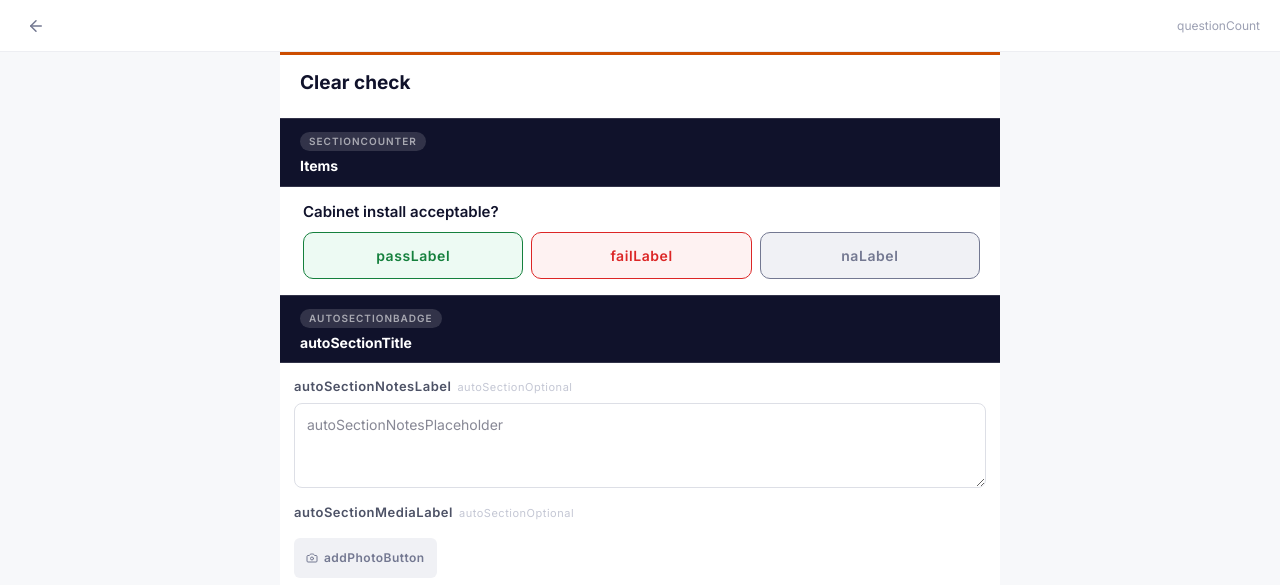
FormFillClient draft registration › adds a second deficiency row when allowAdditionalDeficiencies is true and add-another is clicked
This screenshot has width=1280, height=585.
Click the button "failLabel": {"x": 641, "y": 255} [531, 232, 752, 279]
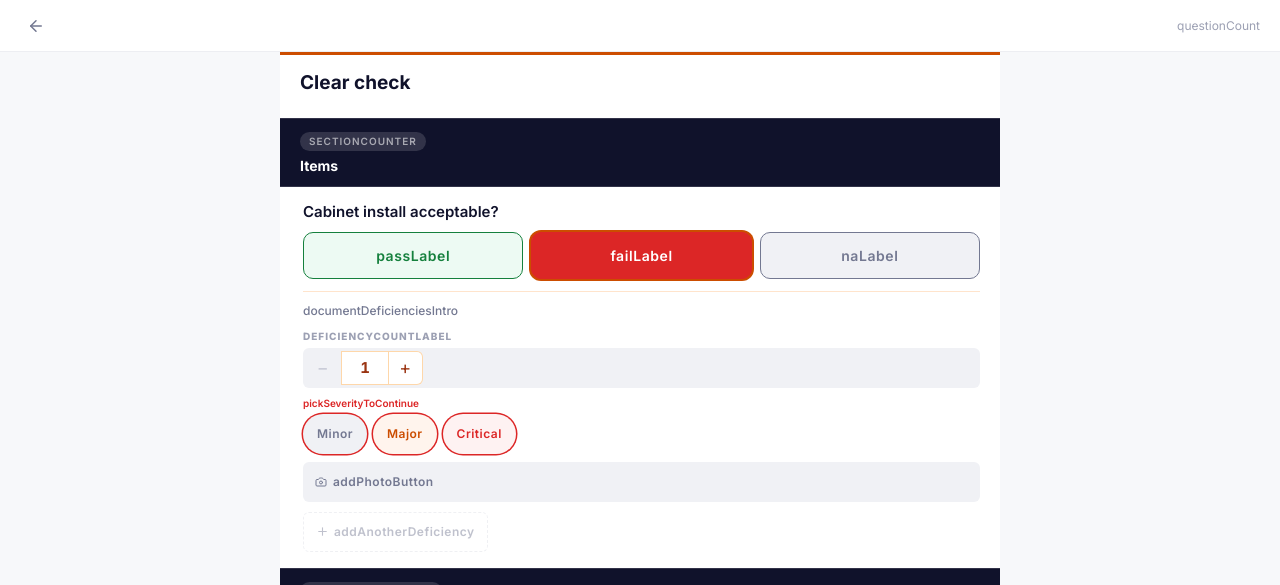
Click the button "Minor": {"x": 335, "y": 434} [303, 414, 367, 454]
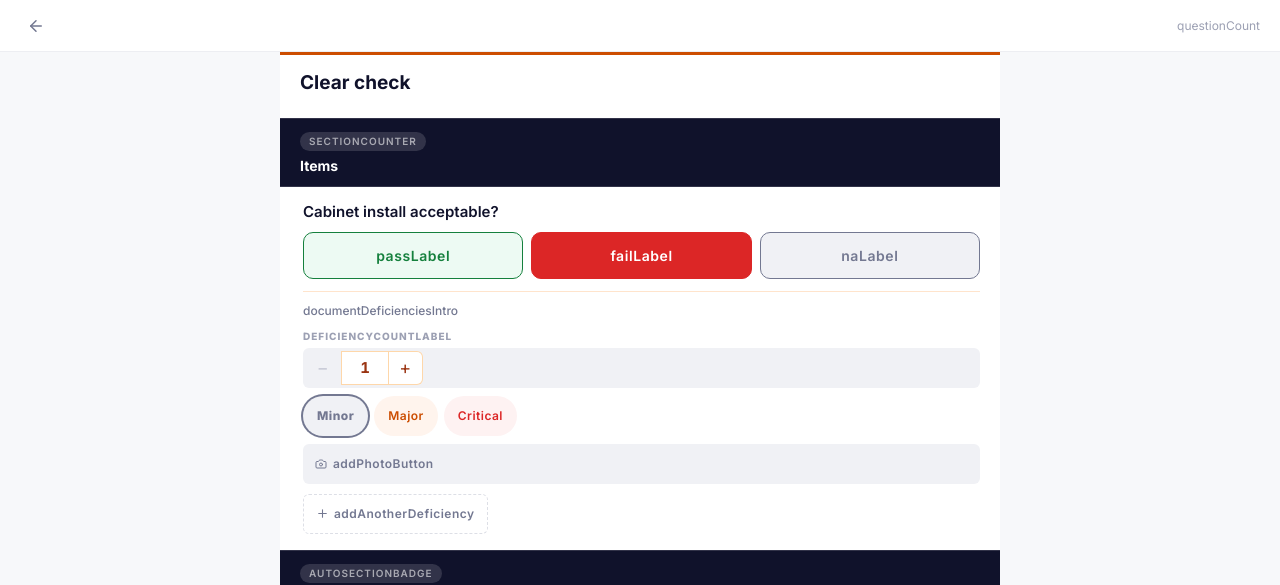
Click the button "addAnotherDeficiency": {"x": 395, "y": 514} [303, 494, 488, 534]
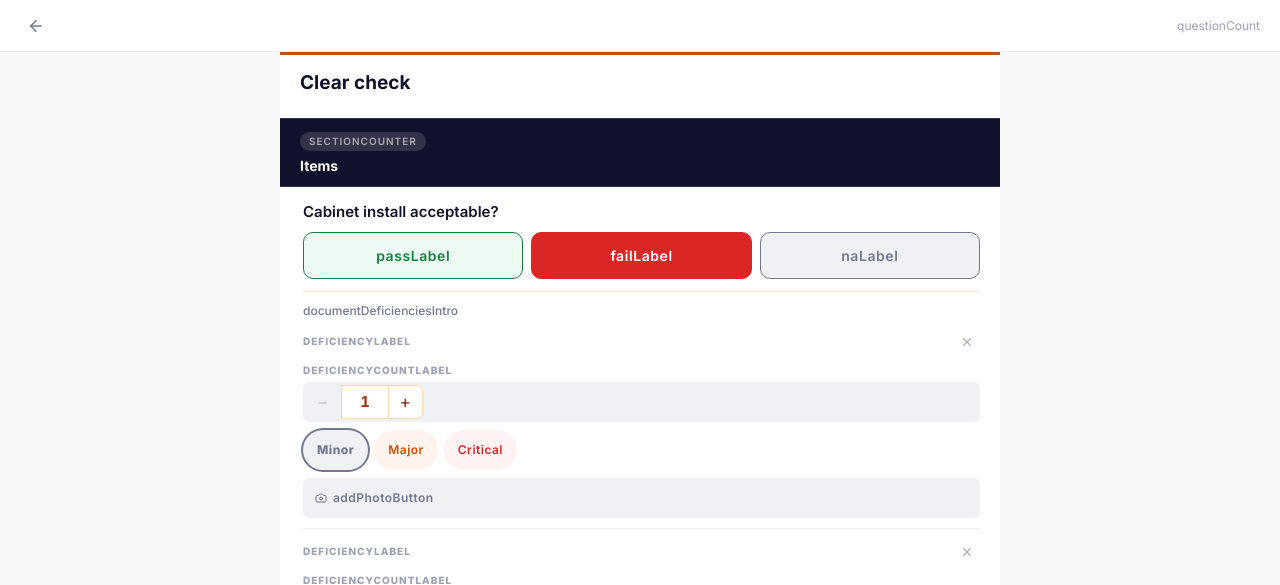
Now the number of buttons named "removeDeficiency" is 2, box [954, 329, 980, 355]; [954, 539, 980, 565]
